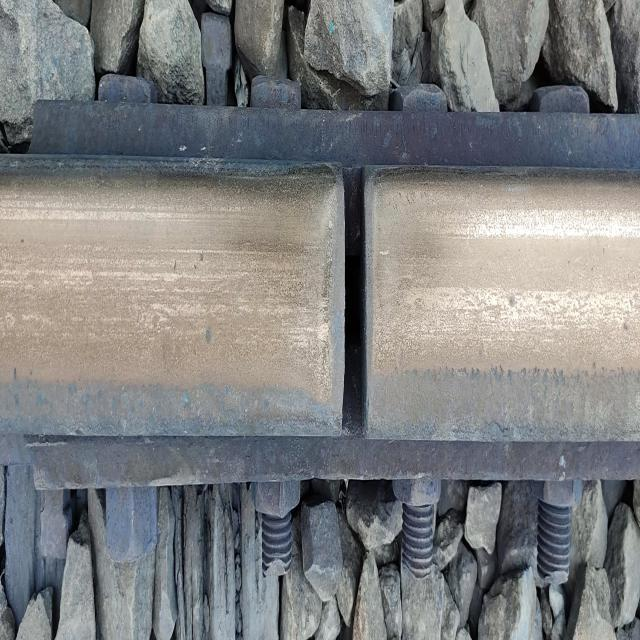Good Joint: (17, 41, 620, 597)
